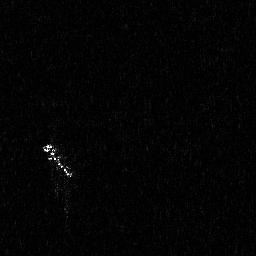ship: (40, 140, 77, 183)
